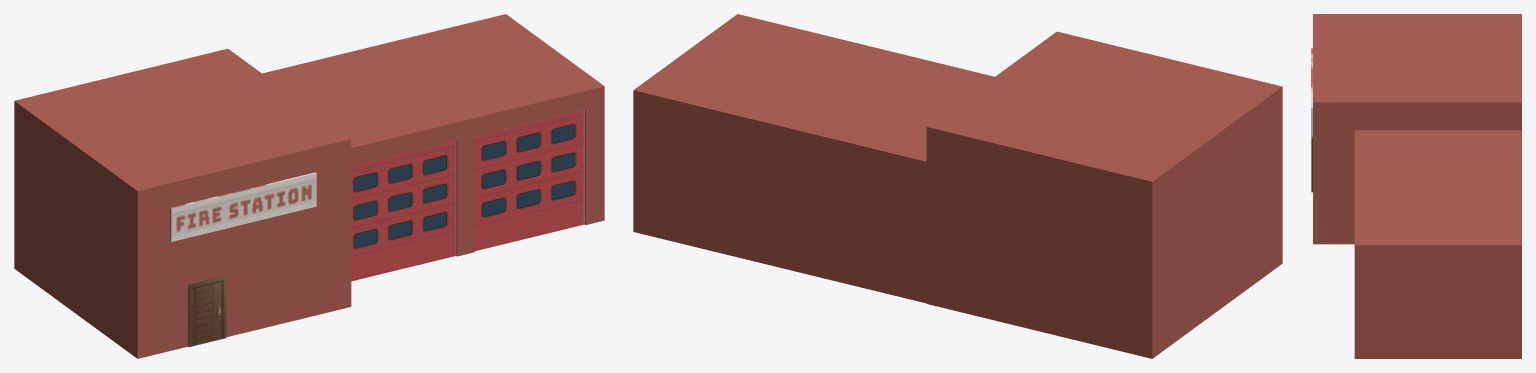
Rendered from fire station.fbx.
3 views of the same model, side by side, from view 1: azimuth 30°, elevation 25°; view 2: azimuth 150°, elevation 25°; view 3: azimuth 270°, elevation 25° (orthographic). The views are drawn at different scales.
Visible parts, largest first — view 1: Cube; view 2: Cube; view 3: Cube.
Boxes of the visible parts, x1,y1,x2,y2 form: Cube: [14, 14, 604, 358]; Cube: [633, 14, 1282, 358]; Cube: [1311, 14, 1521, 358].
Bounding box in the file's own units: 2300 × 750 × 1009.
Materials: 2 (2 with a texture image).
